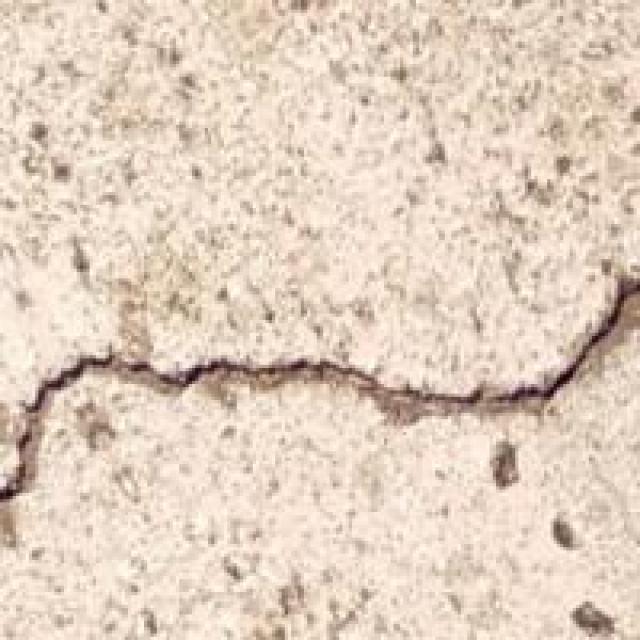crack: (0, 250, 637, 531)
